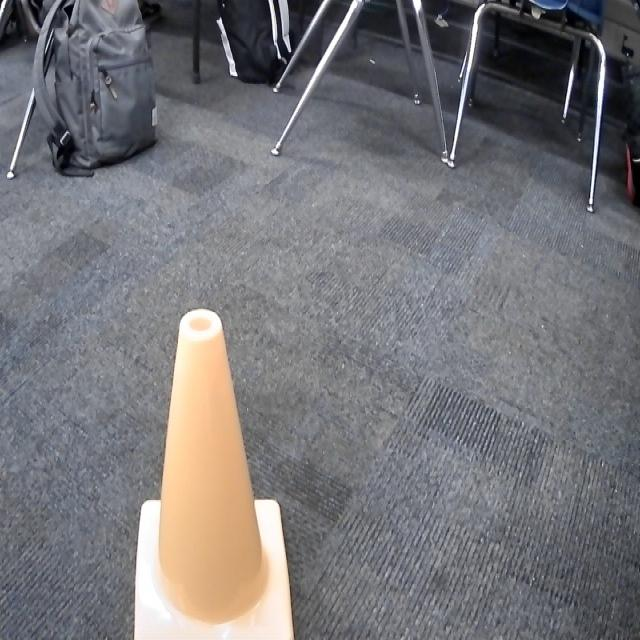cone: (122, 302, 304, 640)
